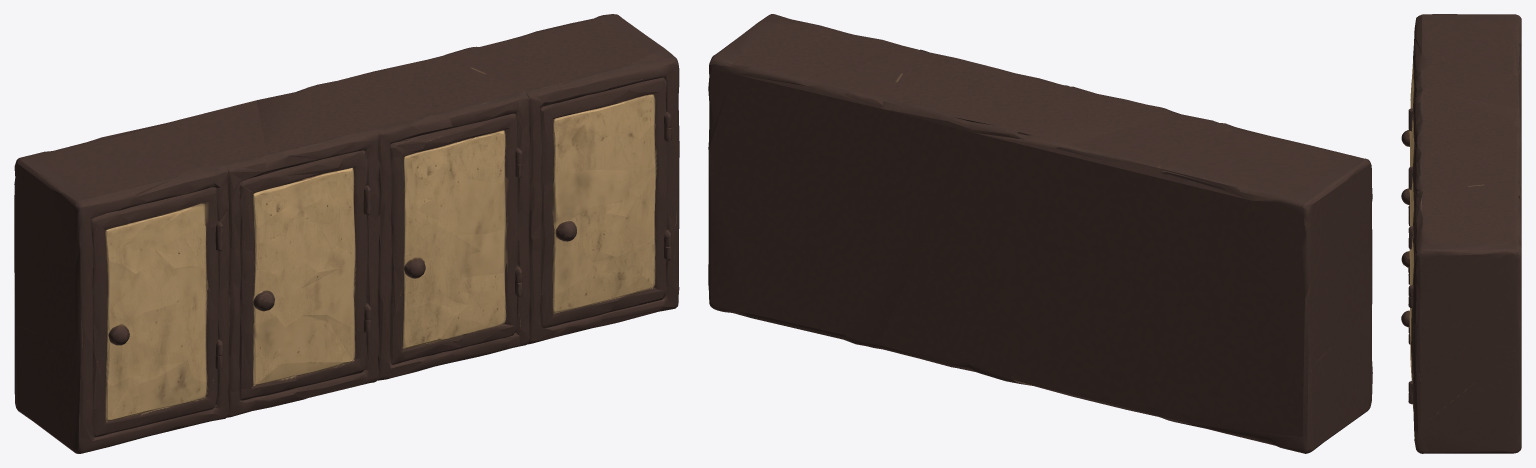
Rendered from pensili.glb.
3 renders of one model, left to right at view 1: azimuth 30°, elevation 25°; view 2: azimuth 150°, elevation 25°; view 3: azimuth 270°, elevation 25°, orthographic. The views are drawn at different scales.
Visible parts, largest first — view 1: Mesh_0; view 2: Mesh_0; view 3: Mesh_0.
Part boxes in pixels (x1,y1,x2,y2): Mesh_0: (14, 14, 679, 453); Mesh_0: (708, 14, 1372, 453); Mesh_0: (1401, 14, 1521, 453).
Bounding box in the file's own units: 1.9 × 0.7641 × 0.4069.
Materials: 1 (1 with a texture image).
